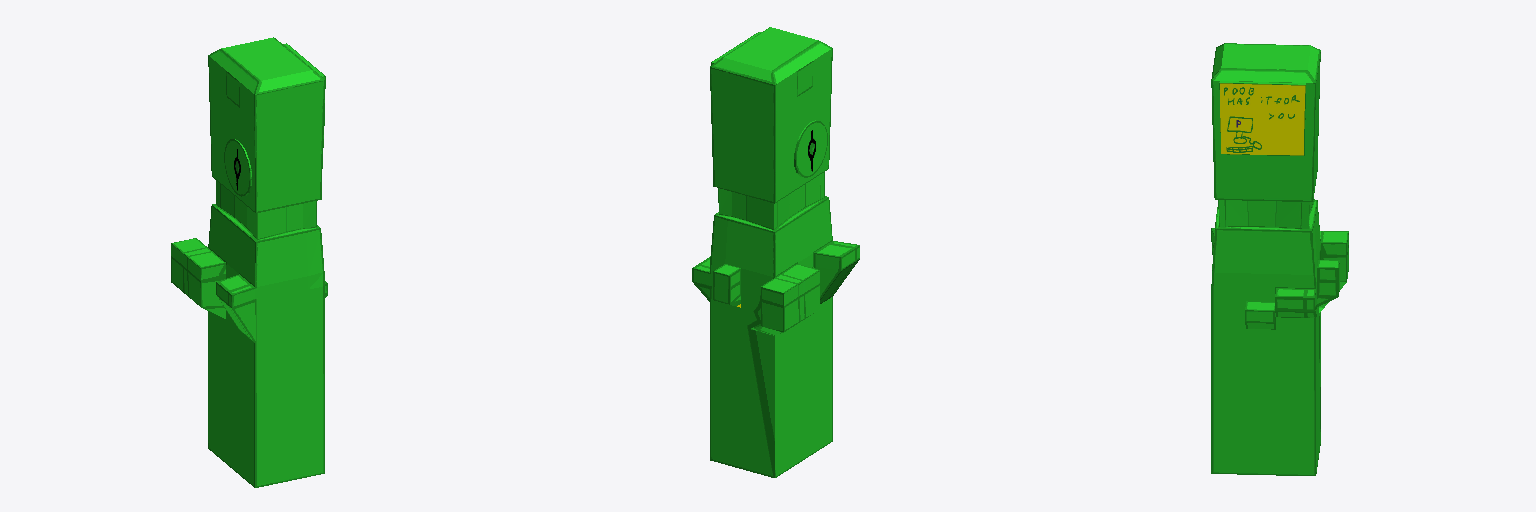
3 views of the same model, side by side, from view 1: azimuth 30°, elevation 25°; view 2: azimuth 150°, elevation 25°; view 3: azimuth 270°, elevation 25° (orthographic).
Parts seen in each view (by area): view 1: pCylinder2; view 2: pCylinder2; view 3: pCylinder2.
Part boxes in pixels (x1,y1,x2,y2): pCylinder2: (171,37,327,487); pCylinder2: (692,27,859,477); pCylinder2: (1211,43,1348,475).
Bounding box in the file's own units: 15.26 × 50.39 × 15.62.
1 materials, 1 textured.